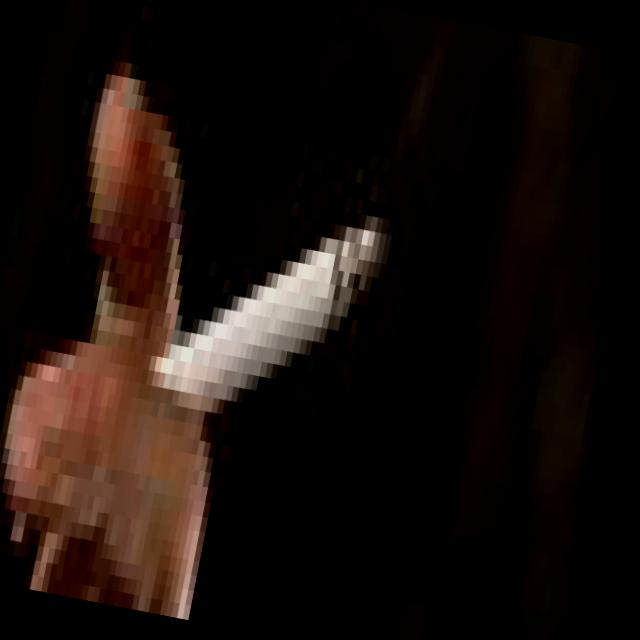smoke: (186, 150, 402, 436)
